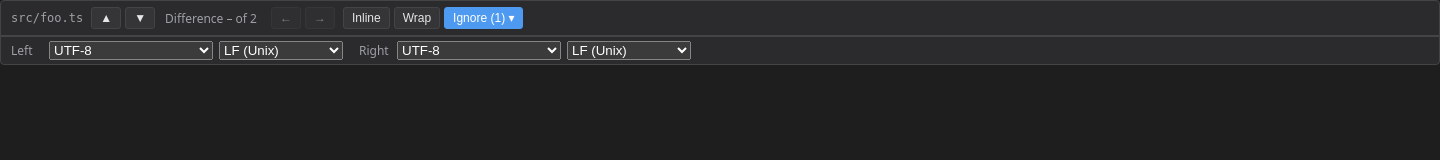
Test case: <TextDiffView /> difference navigation › clamps the current difference when the hunk list shrinks
Click the button named "Next difference".
click(140, 18)  # box left=125, top=7, right=155, bottom=29
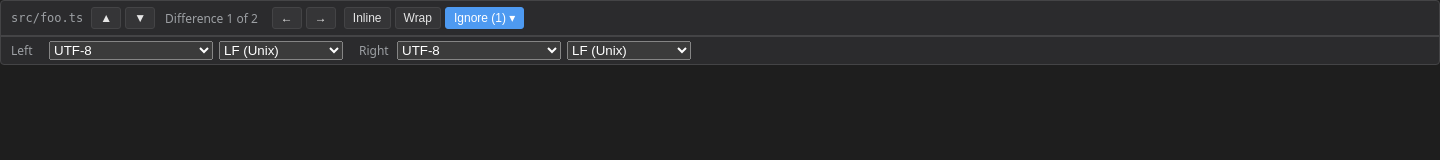
Click the button named "Next difference".
click(140, 18)  # box left=125, top=7, right=155, bottom=29
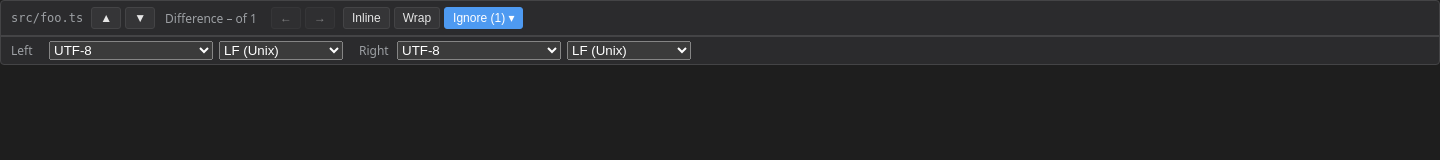
Check: the message reads "Difference – of 1", box left=165, top=10, right=257, bottom=26
